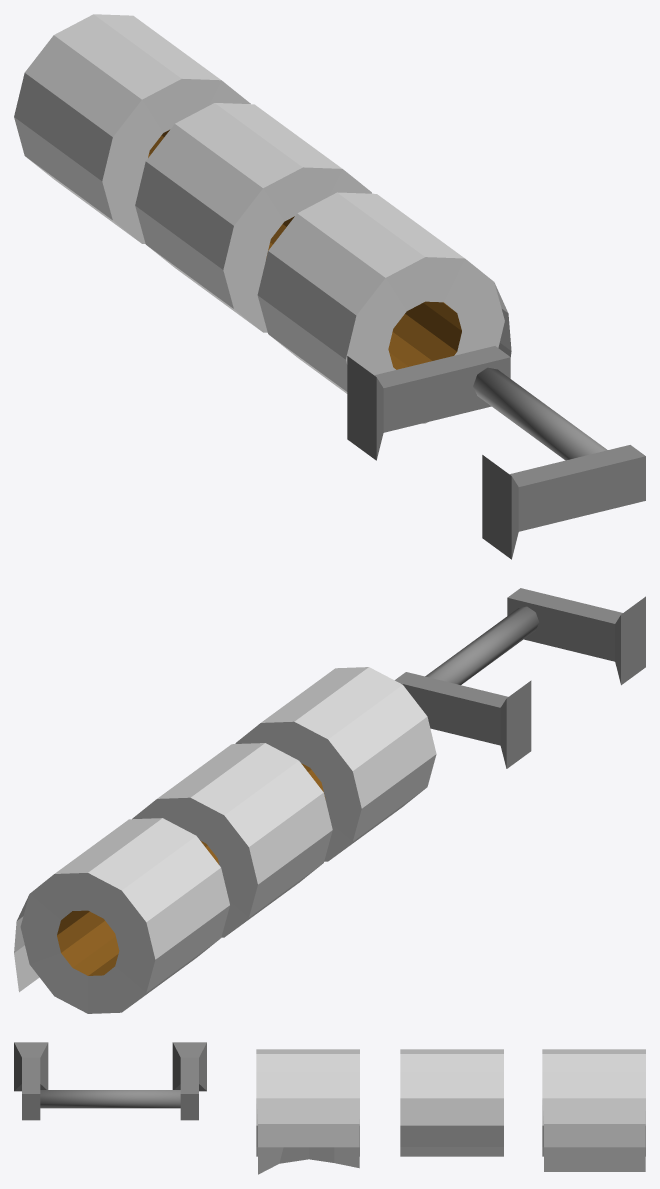
Rendered from tp_and_tp_holder.glb.
3 views of the same model, one above another, from view 1: azimuth 30°, elevation 25°; view 2: azimuth 150°, elevation 25°; view 3: azimuth 270°, elevation 25° (orthographic). The views are drawn at different scales.
Visible parts, largest first — view 1: Cylinder.001, Cylinder.000, Cylinder.002, Cube.001; view 2: Cylinder.002, Cylinder.001, Cylinder.000, Cube.001; view 3: Cylinder.002, Cylinder.001, Cylinder.000, Cube.001.
Part boxes in pixels (left/top/right/bottom): Cylinder.001: left=257, top=192, right=511, bottom=423; Cylinder.000: left=135, top=103, right=371, bottom=332; Cylinder.002: left=14, top=14, right=250, bottom=243; Cube.001: left=347, top=346, right=645, bottom=559; Cylinder.002: left=14, top=818, right=229, bottom=1013; Cylinder.001: left=235, top=667, right=436, bottom=861; Cylinder.000: left=132, top=743, right=332, bottom=937; Cube.001: left=395, top=588, right=645, bottom=768; Cylinder.002: left=542, top=1049, right=645, bottom=1171; Cylinder.001: left=256, top=1049, right=359, bottom=1174; Cylinder.000: left=400, top=1049, right=503, bottom=1156; Cube.001: left=14, top=1042, right=206, bottom=1120.
Bounding box in the file's own units: 2.31 × 1.77 × 10.35.
